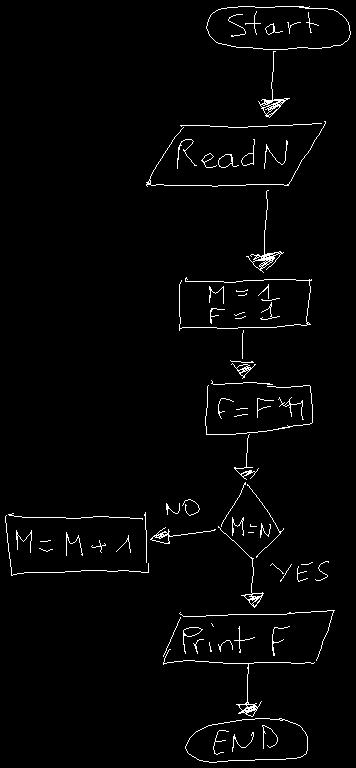arrow: (246, 190, 283, 272), (258, 51, 289, 117), (236, 664, 261, 716), (230, 330, 255, 378), (234, 434, 258, 479), (241, 558, 263, 607), (150, 527, 215, 543)
data: (146, 121, 325, 186), (163, 610, 334, 664)
decision: (218, 482, 283, 559)
process: (5, 512, 148, 575), (179, 277, 311, 330), (205, 380, 312, 434)
terminator: (206, 6, 350, 49), (185, 718, 307, 762)
text: (183, 623, 289, 655), (177, 139, 287, 168), (16, 530, 130, 555), (209, 284, 279, 323), (228, 11, 318, 36), (218, 397, 303, 419), (213, 725, 277, 754), (270, 561, 328, 581), (232, 517, 270, 537), (166, 499, 199, 515)
